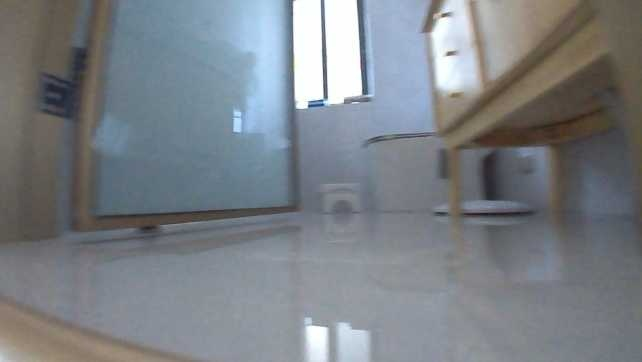chair_base: (432, 180, 530, 215)
door_anno_part: (0, 0, 304, 233)
toilet_part: (358, 120, 482, 208)
washstand: (420, 0, 640, 225)
